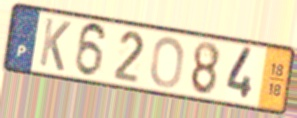2: (111, 30, 147, 86)
4: (225, 44, 257, 105)
6: (74, 20, 111, 79)
8: (189, 41, 221, 97)
K: (37, 15, 73, 74)
O: (149, 35, 186, 90)
